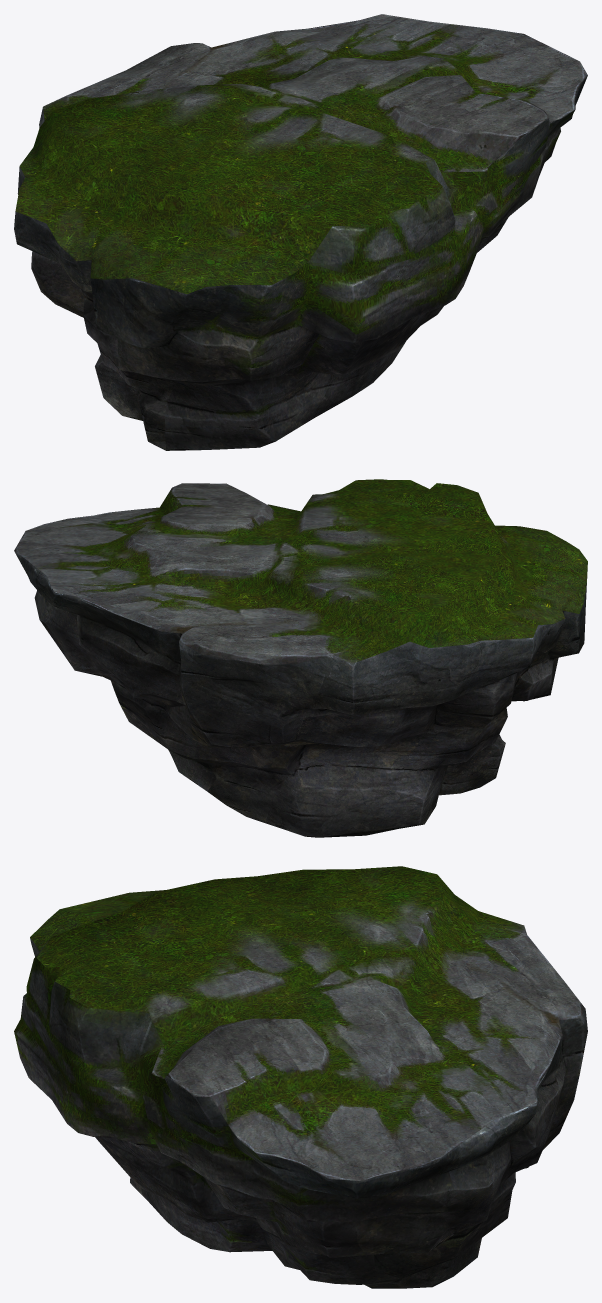
The model's file is rock_platform_low_poly.glb.
3 renders of one model, top to bottom at view 1: azimuth 30°, elevation 25°; view 2: azimuth 150°, elevation 25°; view 3: azimuth 270°, elevation 25°, orthographic. The views are drawn at different scales.
Parts seen in each view (by area): view 1: Object_3, Object_2; view 2: Object_3, Object_2; view 3: Object_3, Object_2.
Boxes of the visible parts, x1=… form: Object_3: x1=15, y1=14, x2=587, y2=293; Object_2: x1=14, y1=76, x2=587, y2=450; Object_3: x1=14, y1=479, x2=587, y2=664; Object_2: x1=14, y1=551, x2=587, y2=837; Object_3: x1=30, y1=866, x2=585, y2=1180; Object_2: x1=14, y1=928, x2=587, y2=1288.
Bounding box in the file's own units: 3200 × 1566 × 2529.
2 materials, 2 textured.
